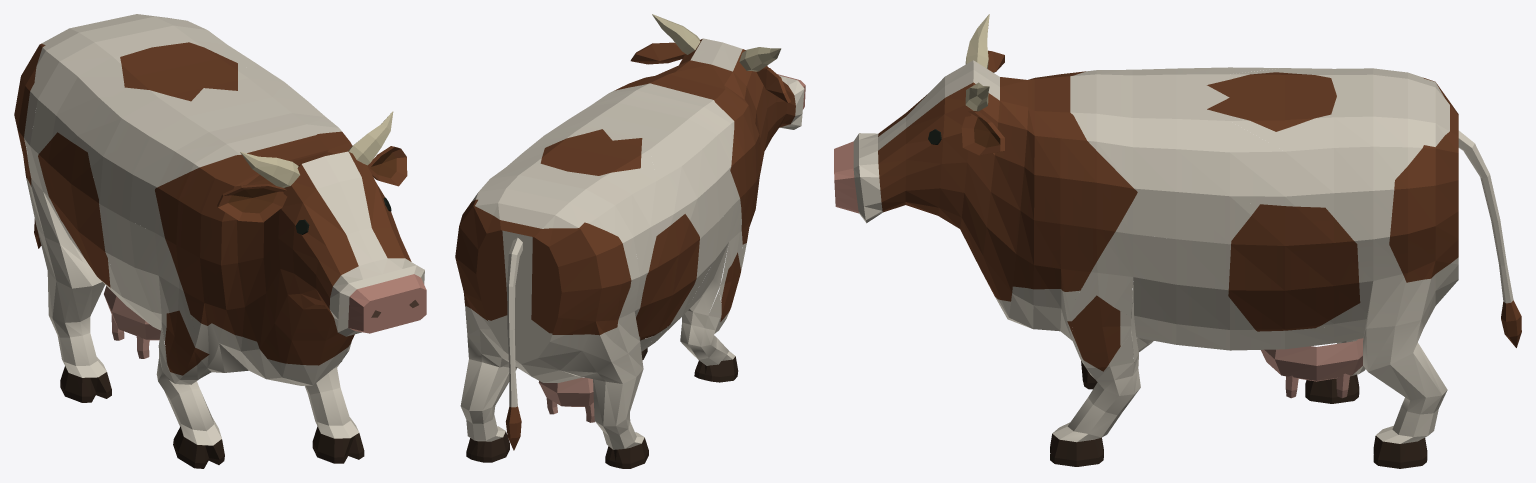
The model's file is cow-base__walk6.glb.
3 views of the same model, side by side, from view 1: azimuth 30°, elevation 25°; view 2: azimuth 150°, elevation 25°; view 3: azimuth 270°, elevation 25° (orthographic). The views are drawn at different scales.
Parts seen in each view (by area): view 1: cow-base__walk6; view 2: cow-base__walk6; view 3: cow-base__walk6.
Part boxes in pixels (left/top/right/bottom): cow-base__walk6: left=14, top=14, right=426, bottom=468; cow-base__walk6: left=455, top=14, right=805, bottom=468; cow-base__walk6: left=834, top=14, right=1521, bottom=468.
Size of the model in its own units: 0.8416 by 1.43 by 2.37.
